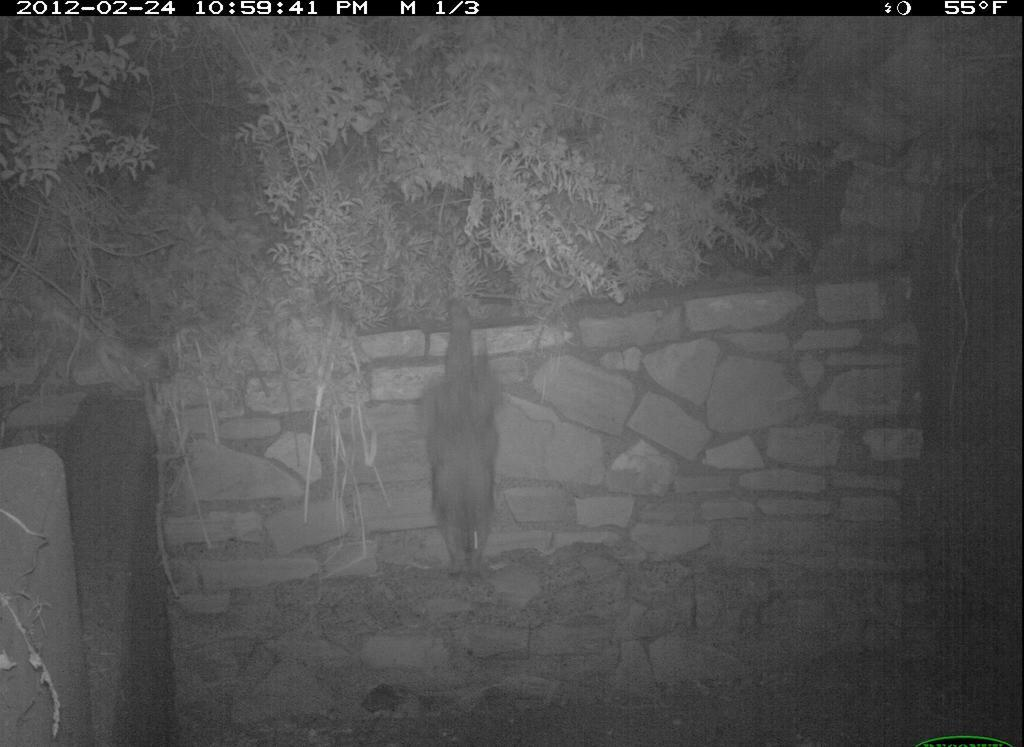raccoon: (401, 287, 527, 597)
